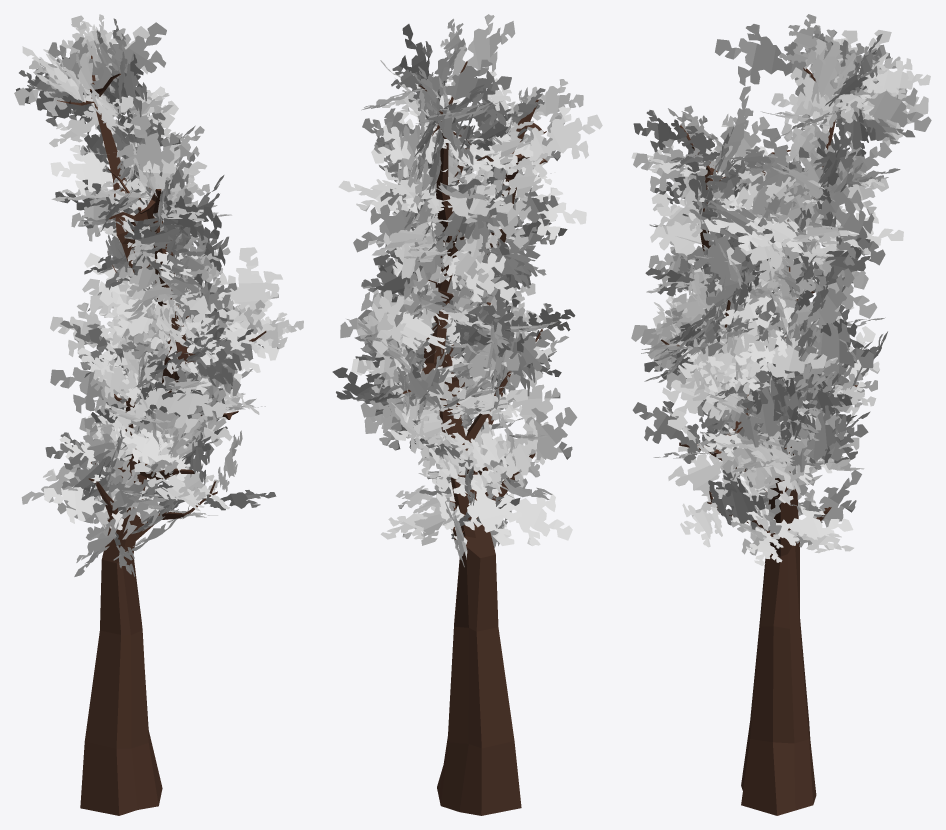
File: Tree 4.fbx
The picture shows the model from 3 angles, left to right: view 1: azimuth 30°, elevation 25°; view 2: azimuth 150°, elevation 25°; view 3: azimuth 270°, elevation 25°; orthographic projection. The views are drawn at different scales.
Visible parts, largest first — view 1: Tree branches, Cube; view 2: Tree branches, Cube; view 3: Tree branches, Cube.
Part boxes in pixels (left/top/right/bottom): Tree branches: left=14, top=14, right=303, bottom=576; Cube: left=57, top=55, right=266, bottom=815; Tree branches: left=332, top=14, right=602, bottom=567; Cube: left=402, top=61, right=547, bottom=815; Tree branches: left=631, top=14, right=931, bottom=565; Cube: left=661, top=67, right=860, bottom=815.
Size of the model in its own units: 779 by 2879 by 997.
